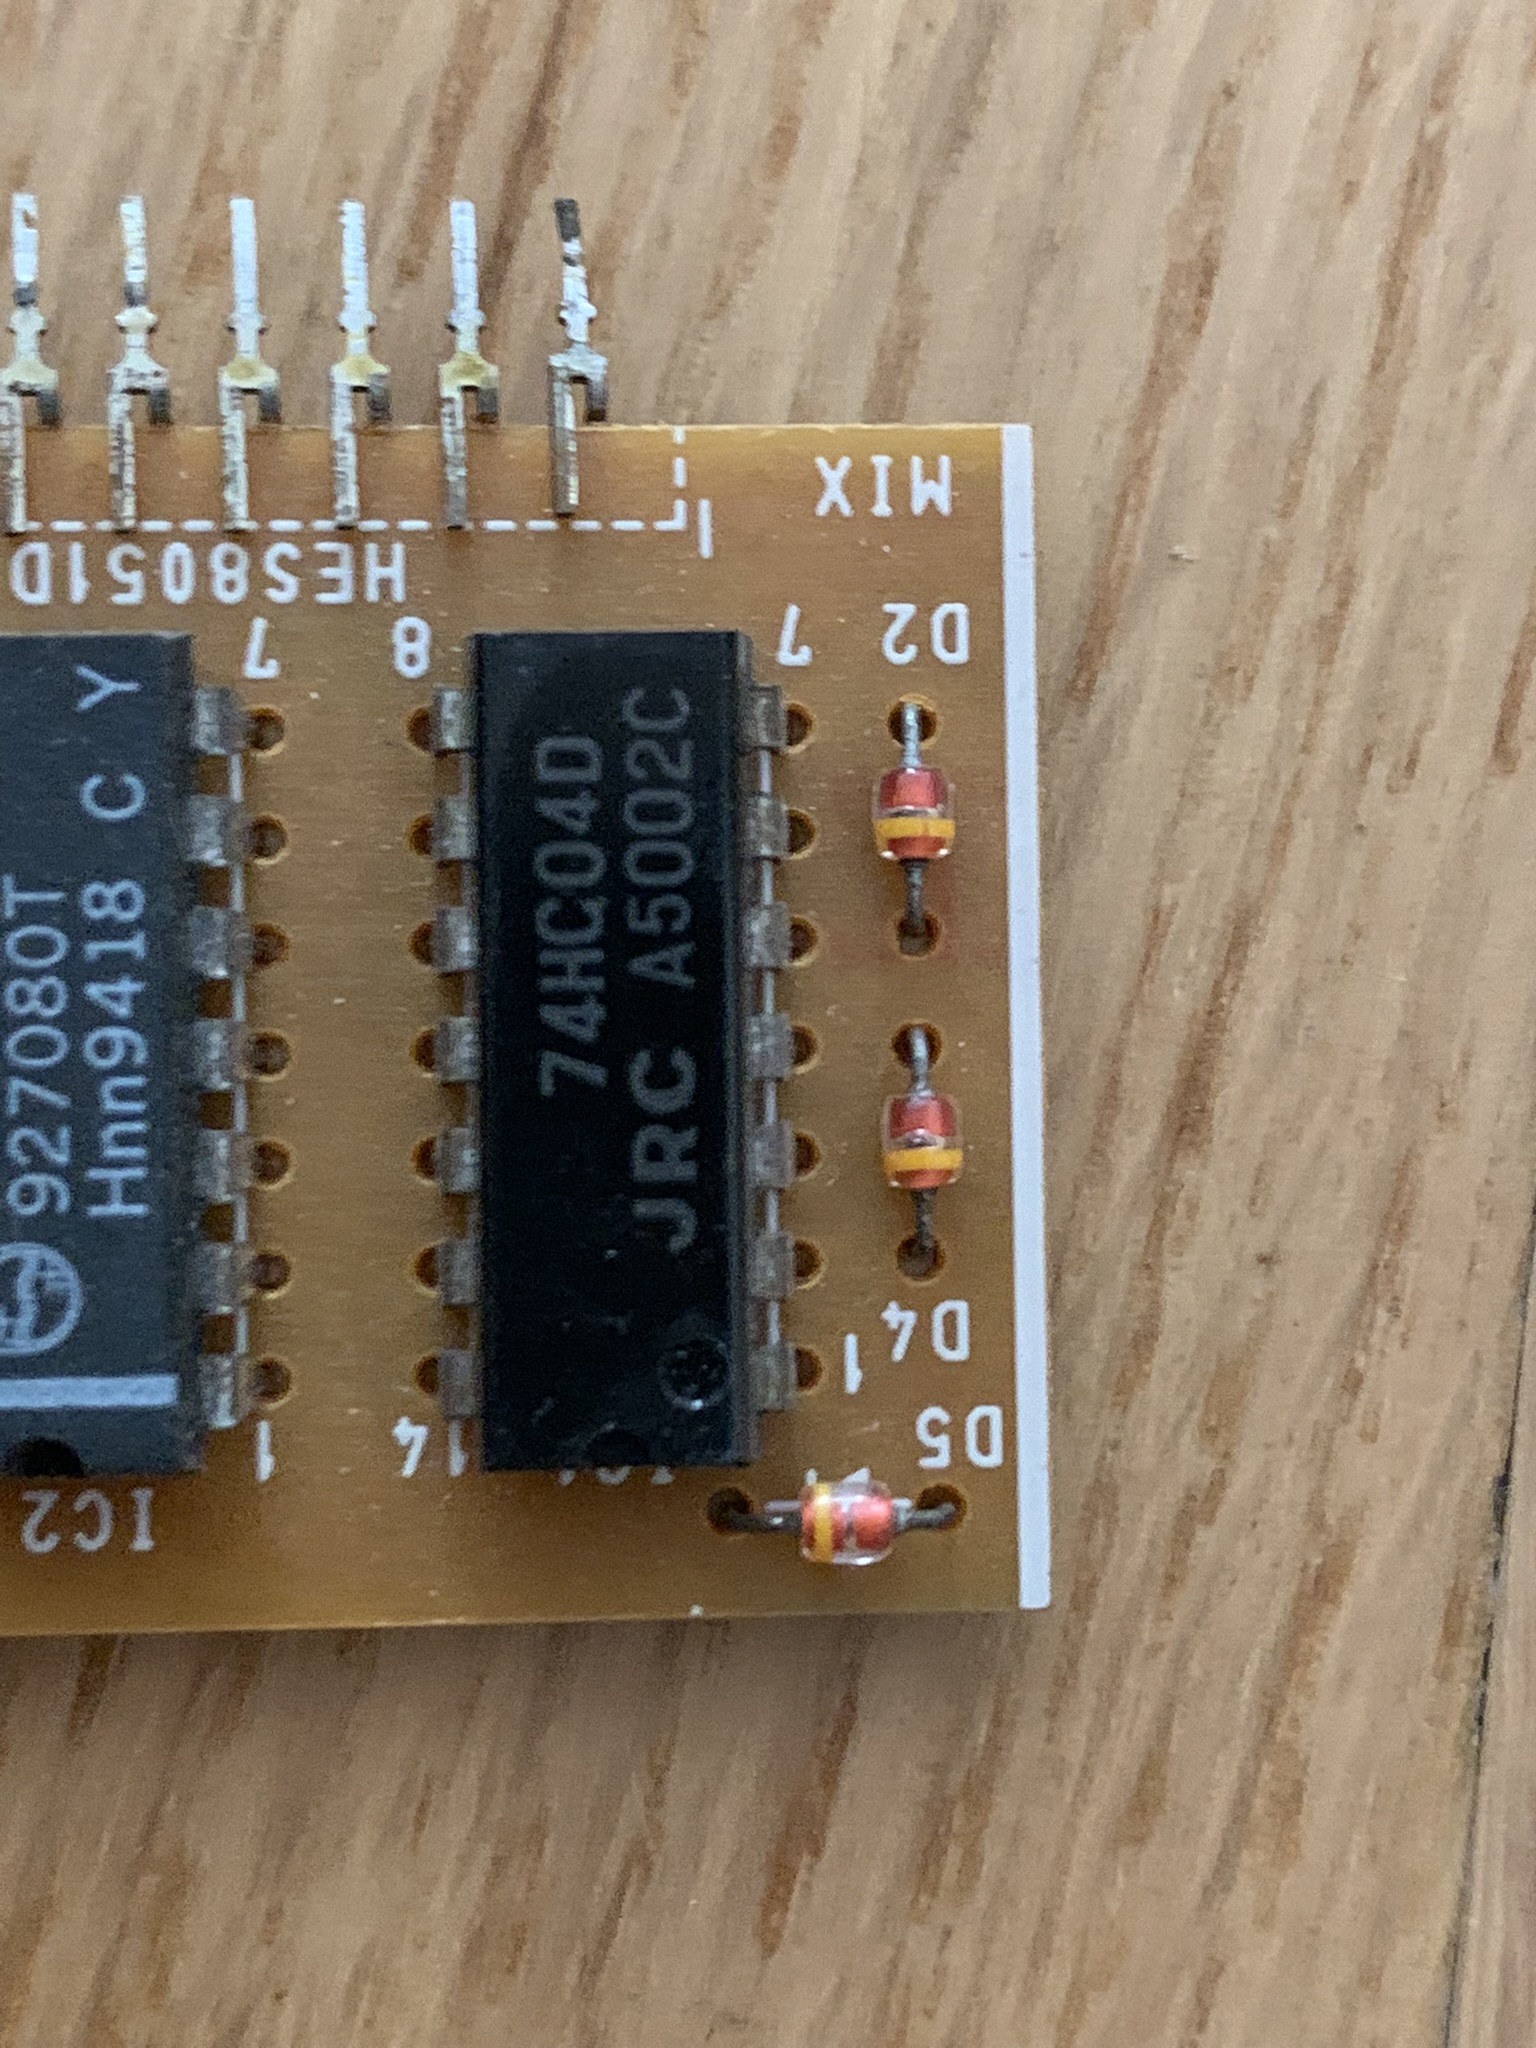diode_smd_z: (795, 1479, 902, 1571), (871, 764, 955, 864), (879, 1095, 962, 1193)
ic_thd: (437, 632, 786, 1472), (2, 634, 216, 1472)
